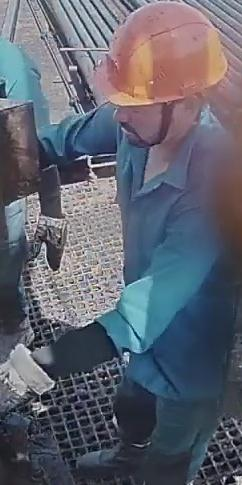gloves: (0, 324, 98, 415), (31, 188, 74, 272)
helmet: (93, 0, 228, 107)
vest: (111, 119, 239, 400), (1, 46, 44, 334)
